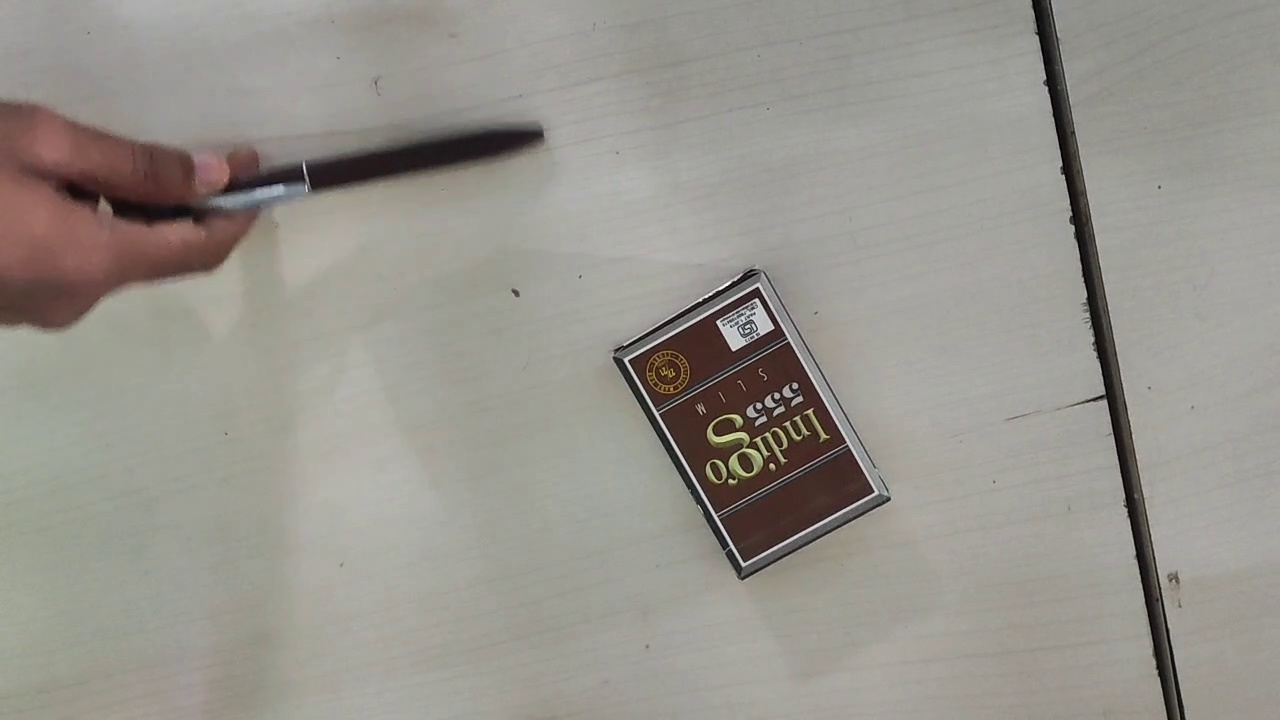BEX: (628, 283, 875, 565)
